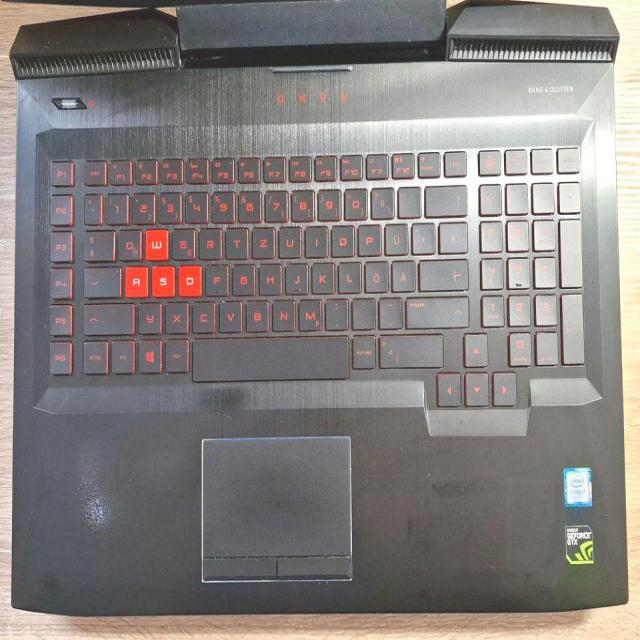0: (342, 184, 366, 217)
1: (104, 190, 127, 222)
2: (130, 189, 154, 222)
3: (156, 189, 180, 221)
4: (183, 188, 207, 220)
5: (210, 189, 233, 221)
6: (237, 188, 260, 220)
7: (263, 187, 286, 220)
8: (289, 187, 313, 219)
9: (316, 186, 340, 219)
a: (123, 262, 147, 295)
accent: (396, 183, 419, 215)
ae: (390, 255, 414, 289)
alt-left: (163, 335, 187, 371)
altgr-right: (350, 330, 375, 367)
b: (244, 296, 268, 330)
c: (190, 298, 214, 331)
caret: (82, 190, 101, 222)
comma: (324, 294, 348, 328)
d: (177, 262, 201, 295)
del: (423, 181, 465, 214)
e: (170, 223, 194, 258)
enter: (416, 254, 467, 288)
f: (203, 260, 227, 294)
g: (230, 259, 253, 293)
h: (257, 259, 280, 293)
hash: (437, 218, 466, 251)
i: (303, 222, 326, 255)
j: (283, 259, 307, 292)
k: (309, 258, 333, 291)
keyboard: (35, 131, 590, 404)
l: (336, 257, 359, 290)
less: (378, 329, 444, 366)
m: (296, 295, 320, 329)
minus: (376, 293, 401, 327)
n: (270, 295, 294, 329)
o: (329, 221, 353, 255)
oe: (363, 257, 387, 290)
p: (356, 220, 380, 254)
plus: (410, 218, 434, 252)
point: (350, 294, 373, 327)
q: (116, 224, 140, 258)
r: (197, 223, 221, 257)
s: (150, 262, 174, 295)
shift-left: (82, 299, 133, 333)
shift-lock: (81, 263, 119, 295)
shift-right: (403, 292, 468, 326)
space: (191, 331, 347, 380)
ss: (369, 184, 393, 216)
strg-left: (81, 337, 108, 372)
t: (224, 223, 248, 257)
tab: (81, 225, 113, 258)
u: (276, 222, 300, 256)
ue: (382, 219, 406, 253)
v: (217, 297, 241, 330)
w: (144, 224, 168, 258)
x: (164, 298, 188, 332)
y: (137, 299, 161, 332)
z: (250, 223, 273, 257)
